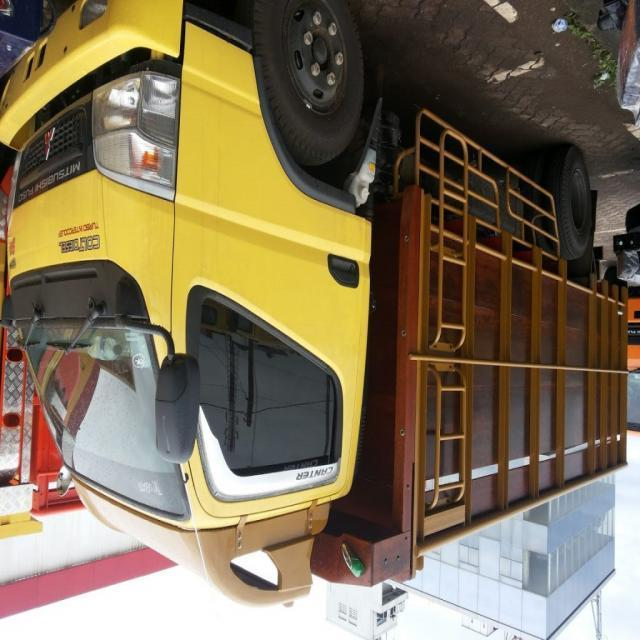truck: (0, 1, 628, 605)
